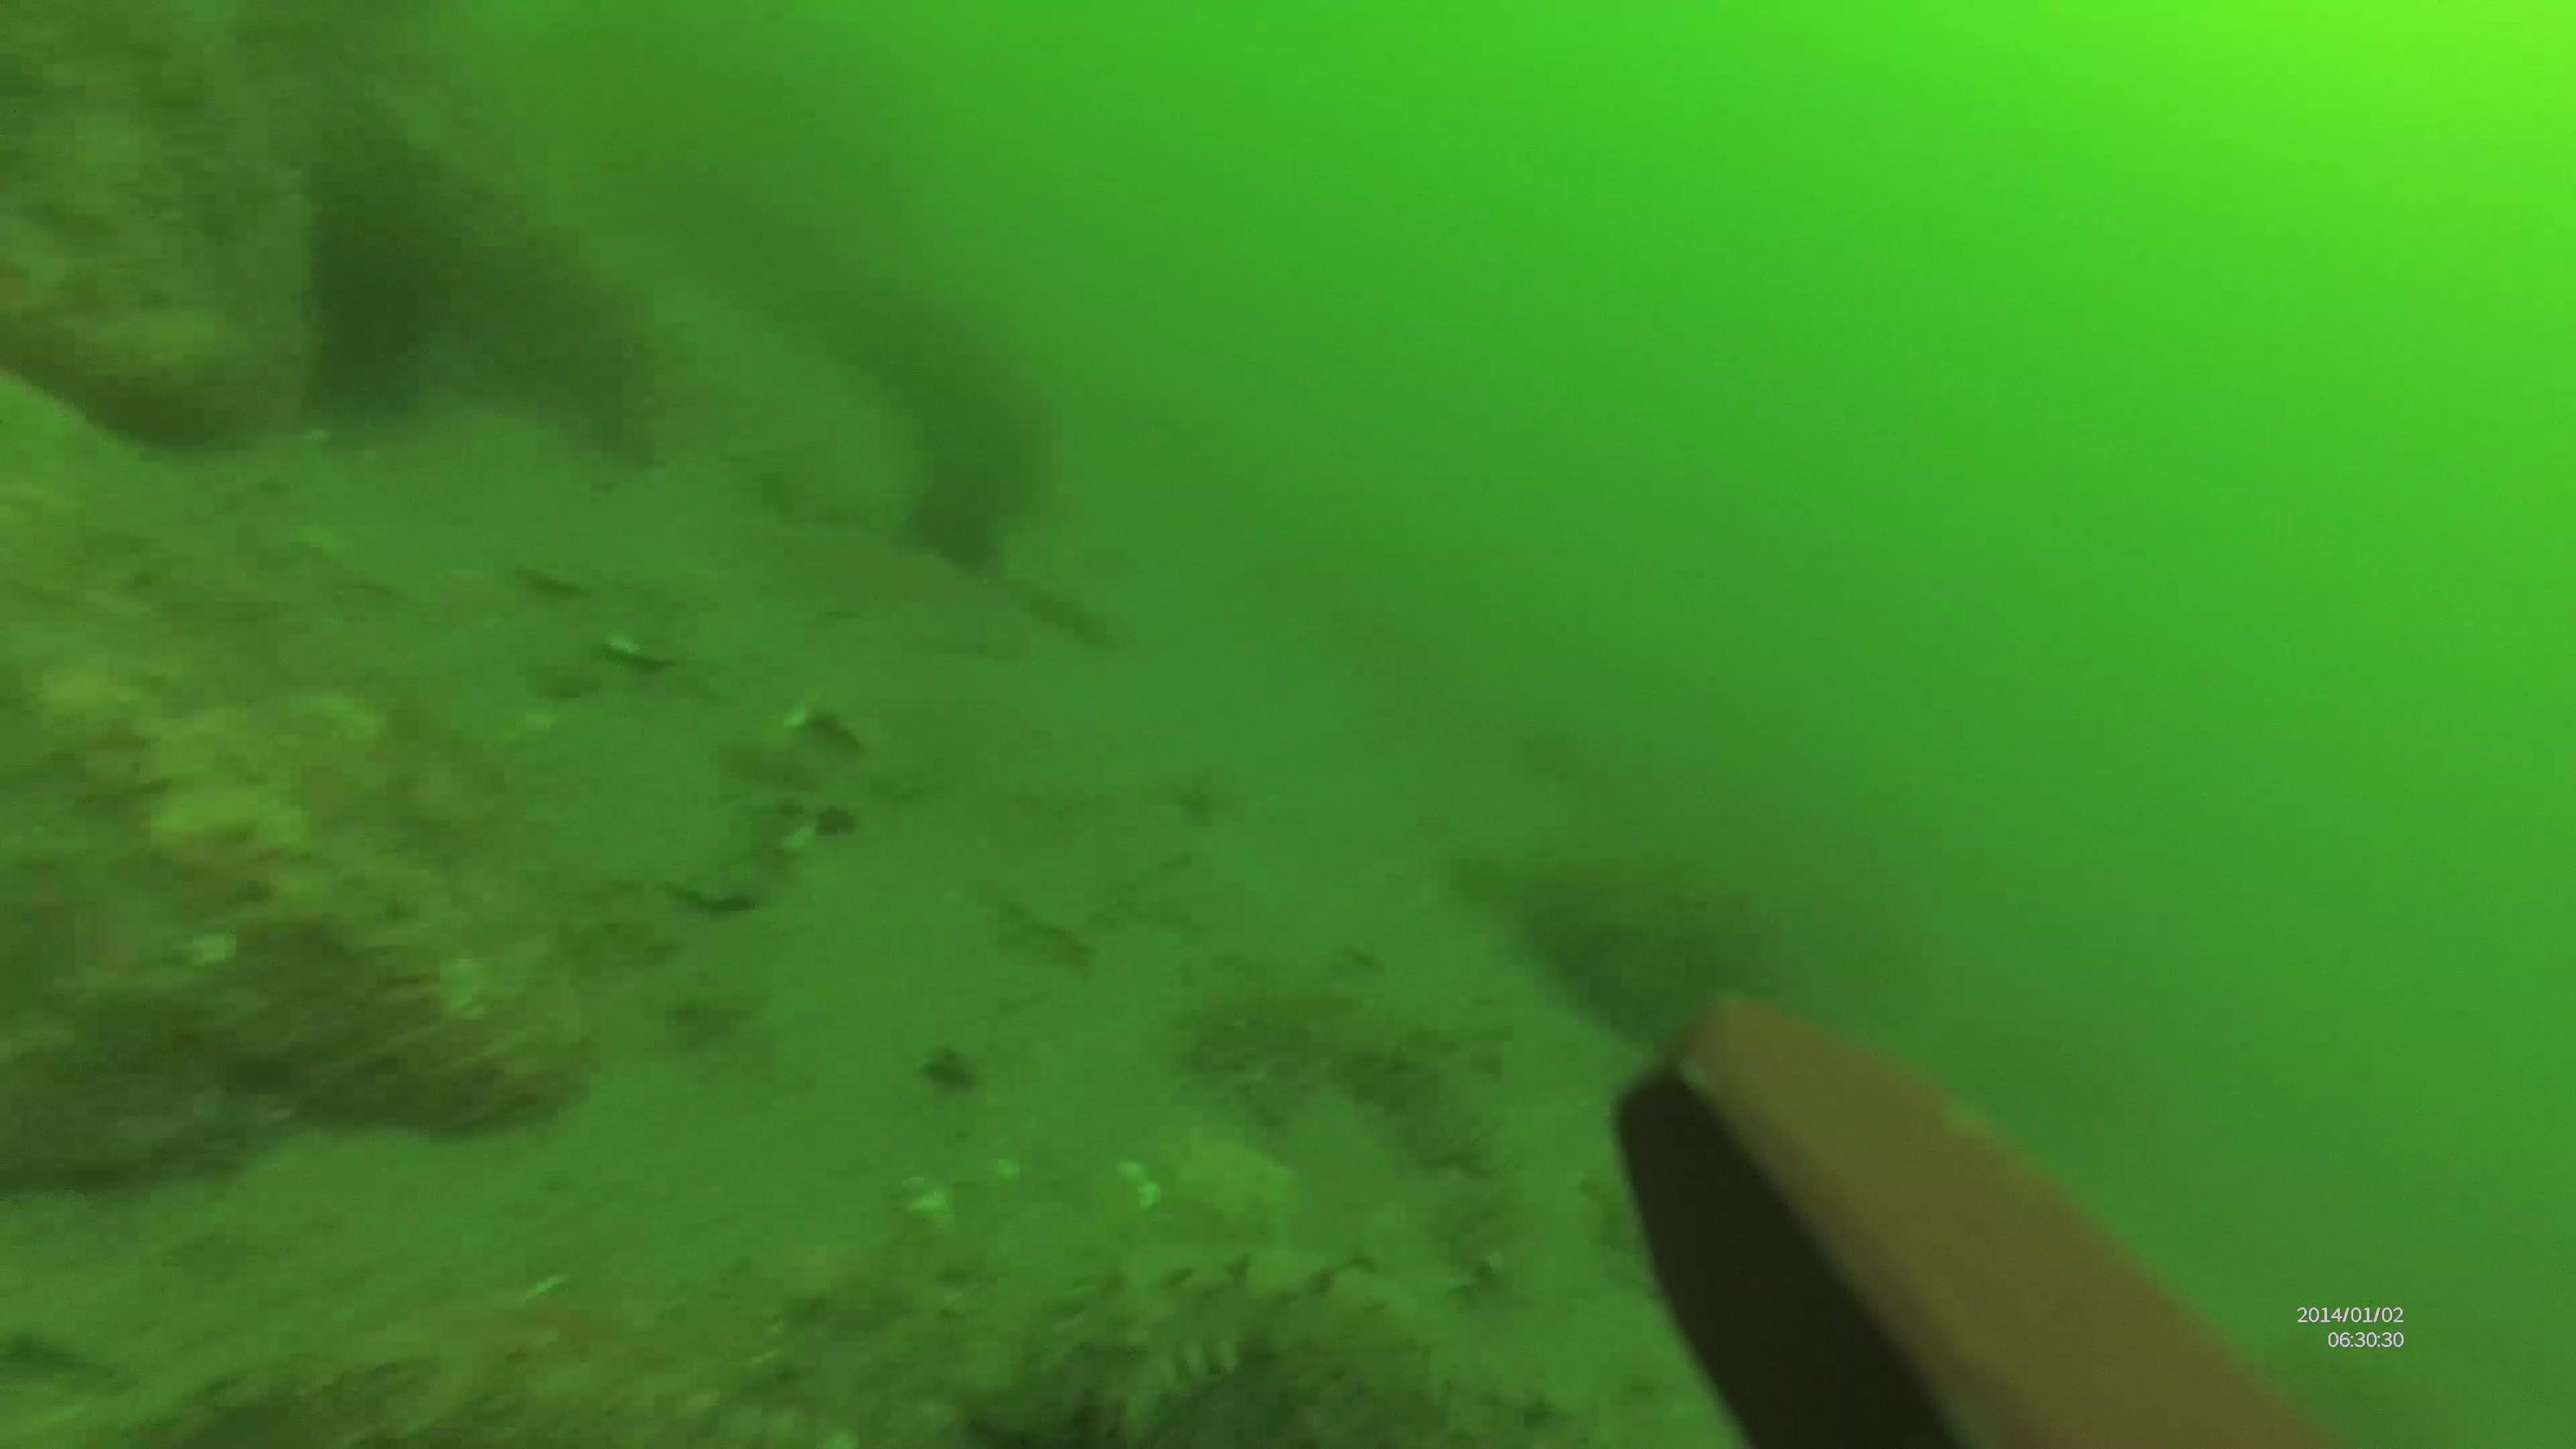holothurian: (993, 1261, 1426, 1407)
